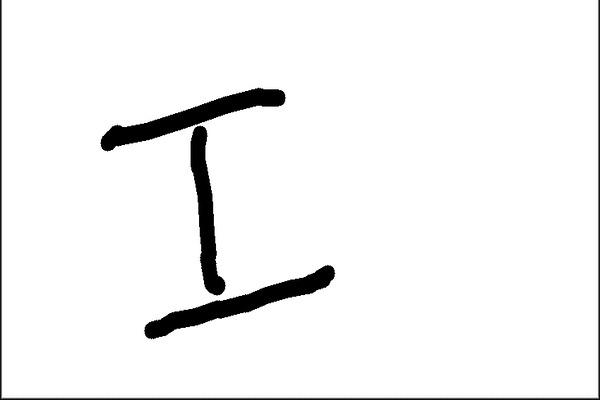i: (93, 81, 344, 340)
